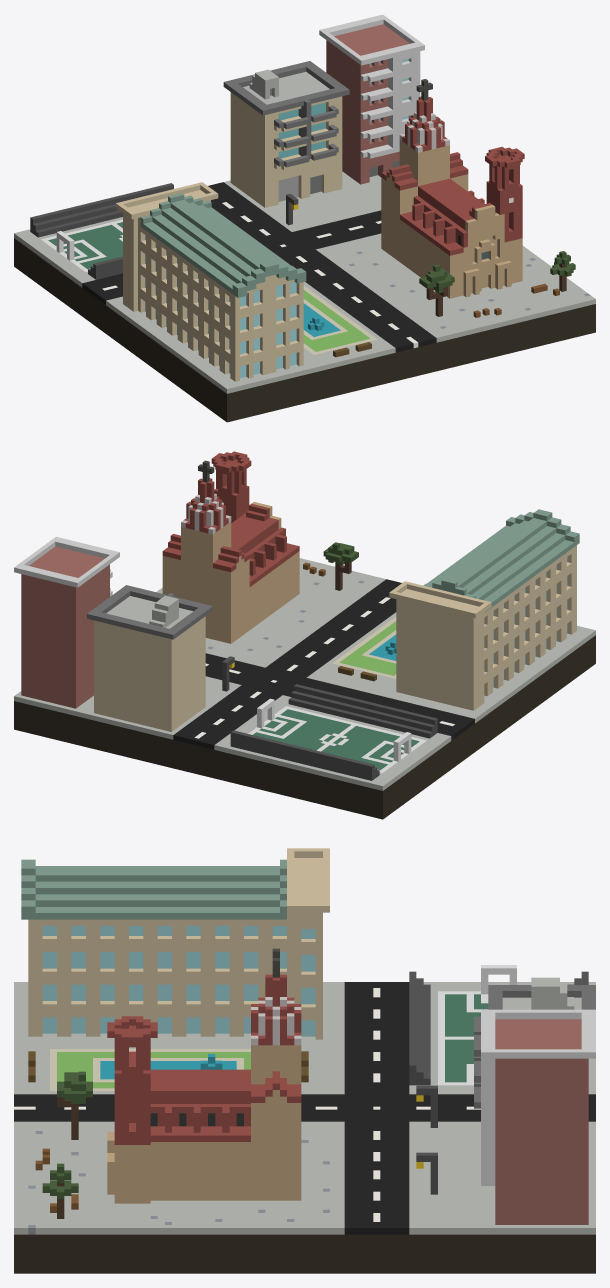
File: nhood_6.glb
3 renders of one model, top to bottom at view 1: azimuth 30°, elevation 25°; view 2: azimuth 150°, elevation 25°; view 3: azimuth 270°, elevation 25°, orthographic. The views are drawn at different scales.
Parts seen in each view (by area): view 1: Untitled; view 2: Untitled; view 3: Untitled.
Part boxes in pixels (box(x1,y1,x2,y2)): Untitled: box(14, 14, 595, 422); Untitled: box(14, 451, 595, 819); Untitled: box(14, 848, 595, 1273).
Size of the model in its own units: 8.1 by 4.2 by 8.1.
1 material, 1 textured.
